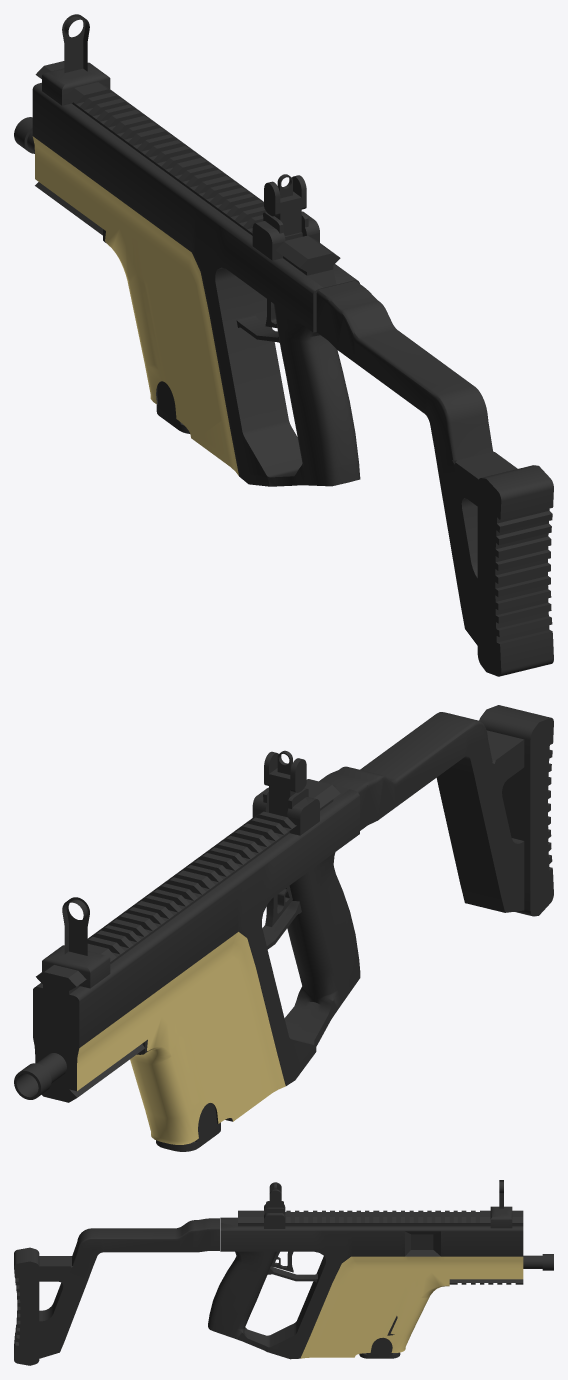
File: smg.glb
3 views of the same model, one above another, from view 1: azimuth 30°, elevation 25°; view 2: azimuth 150°, elevation 25°; view 3: azimuth 270°, elevation 25° (orthographic). The views are drawn at different scales.
Parts seen in each view (by area): view 1: Kriss Vector; view 2: Kriss Vector; view 3: Kriss Vector.
Part boxes in pixels (box(x1,y1,x2,y2)): Kriss Vector: box(14, 14, 553, 676); Kriss Vector: box(14, 705, 553, 1151); Kriss Vector: box(14, 1180, 553, 1365).
Size of the model in its own units: 0.0377 by 0.2257 by 0.62.
